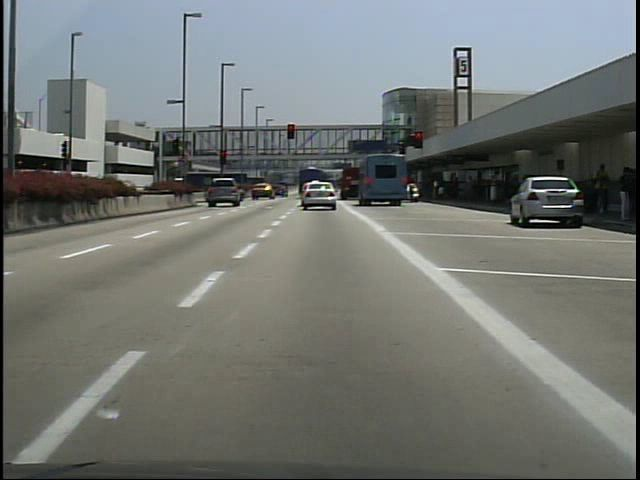person: (594, 165, 610, 215)
